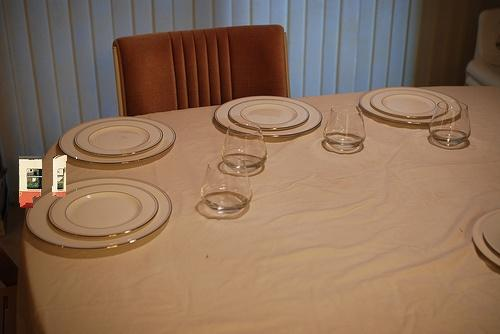tampered: (20, 156, 77, 208)
